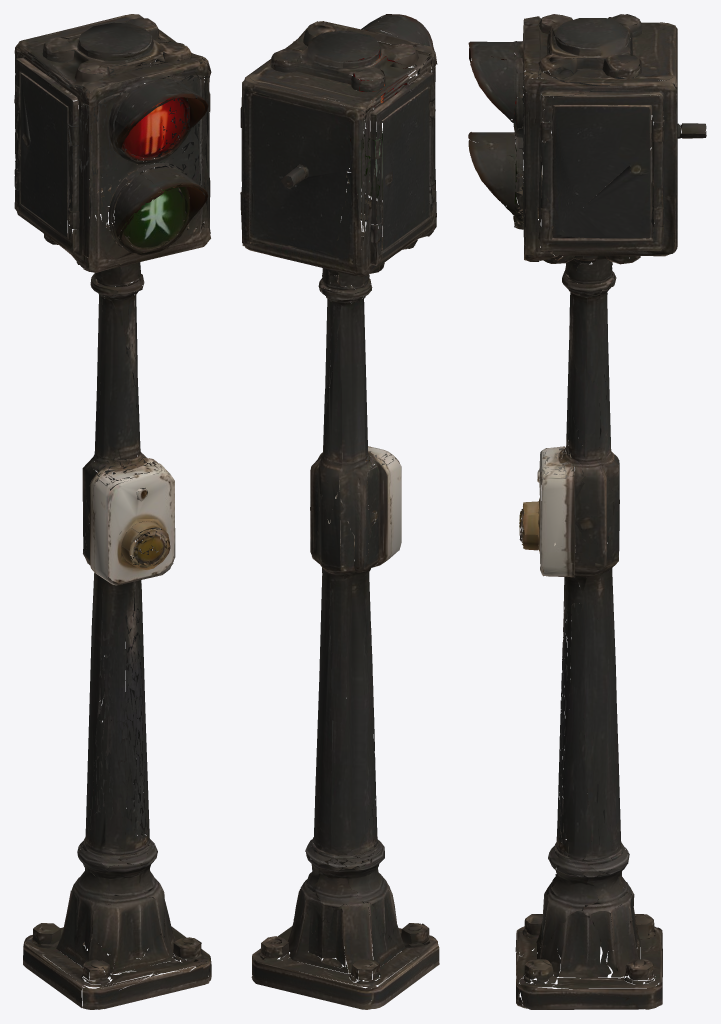
Rendered from ch03_crosswalk_signal.glb.
3 renders of one model, left to right at view 1: azimuth 30°, elevation 25°; view 2: azimuth 150°, elevation 25°; view 3: azimuth 270°, elevation 25°, orthographic. The views are drawn at different scales.
Parts seen in each view (by area): view 1: material; view 2: material; view 3: material.
Boxes of the visible parts, x1=… form: material: x1=14, y1=14, x2=211, y2=1009; material: x1=240, y1=14, x2=439, y2=1009; material: x1=468, y1=14, x2=706, y2=1009.
Size of the model in its own units: 0.1854 by 1.18 by 0.2695.
Materials: 1 (1 with a texture image).
